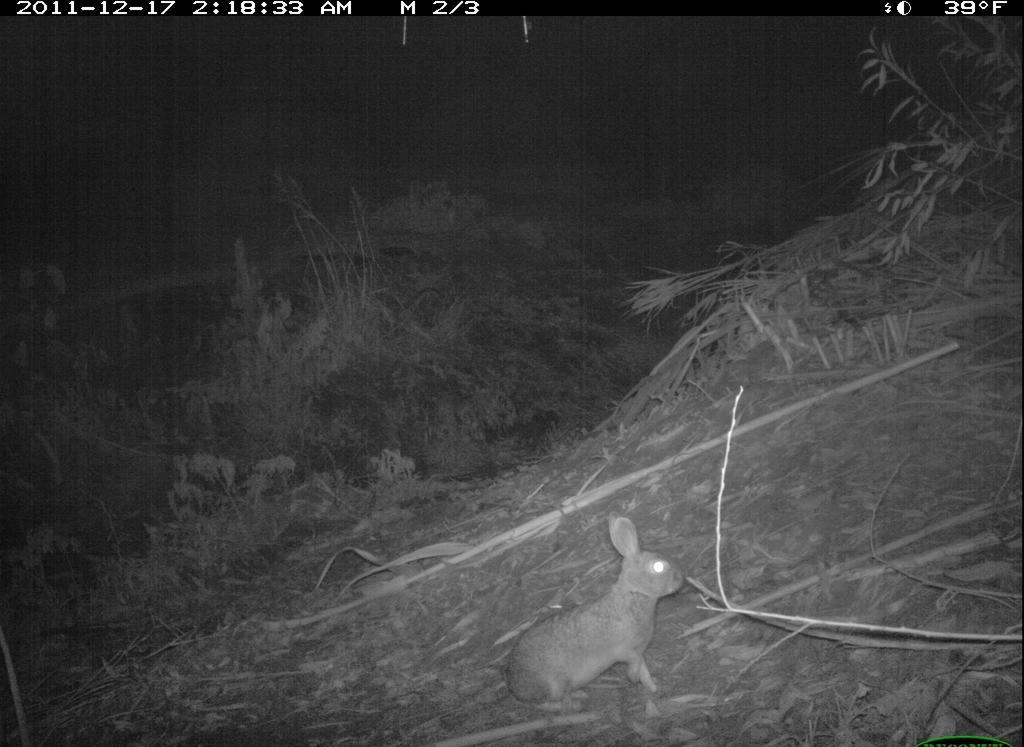rabbit: (500, 506, 692, 717)
